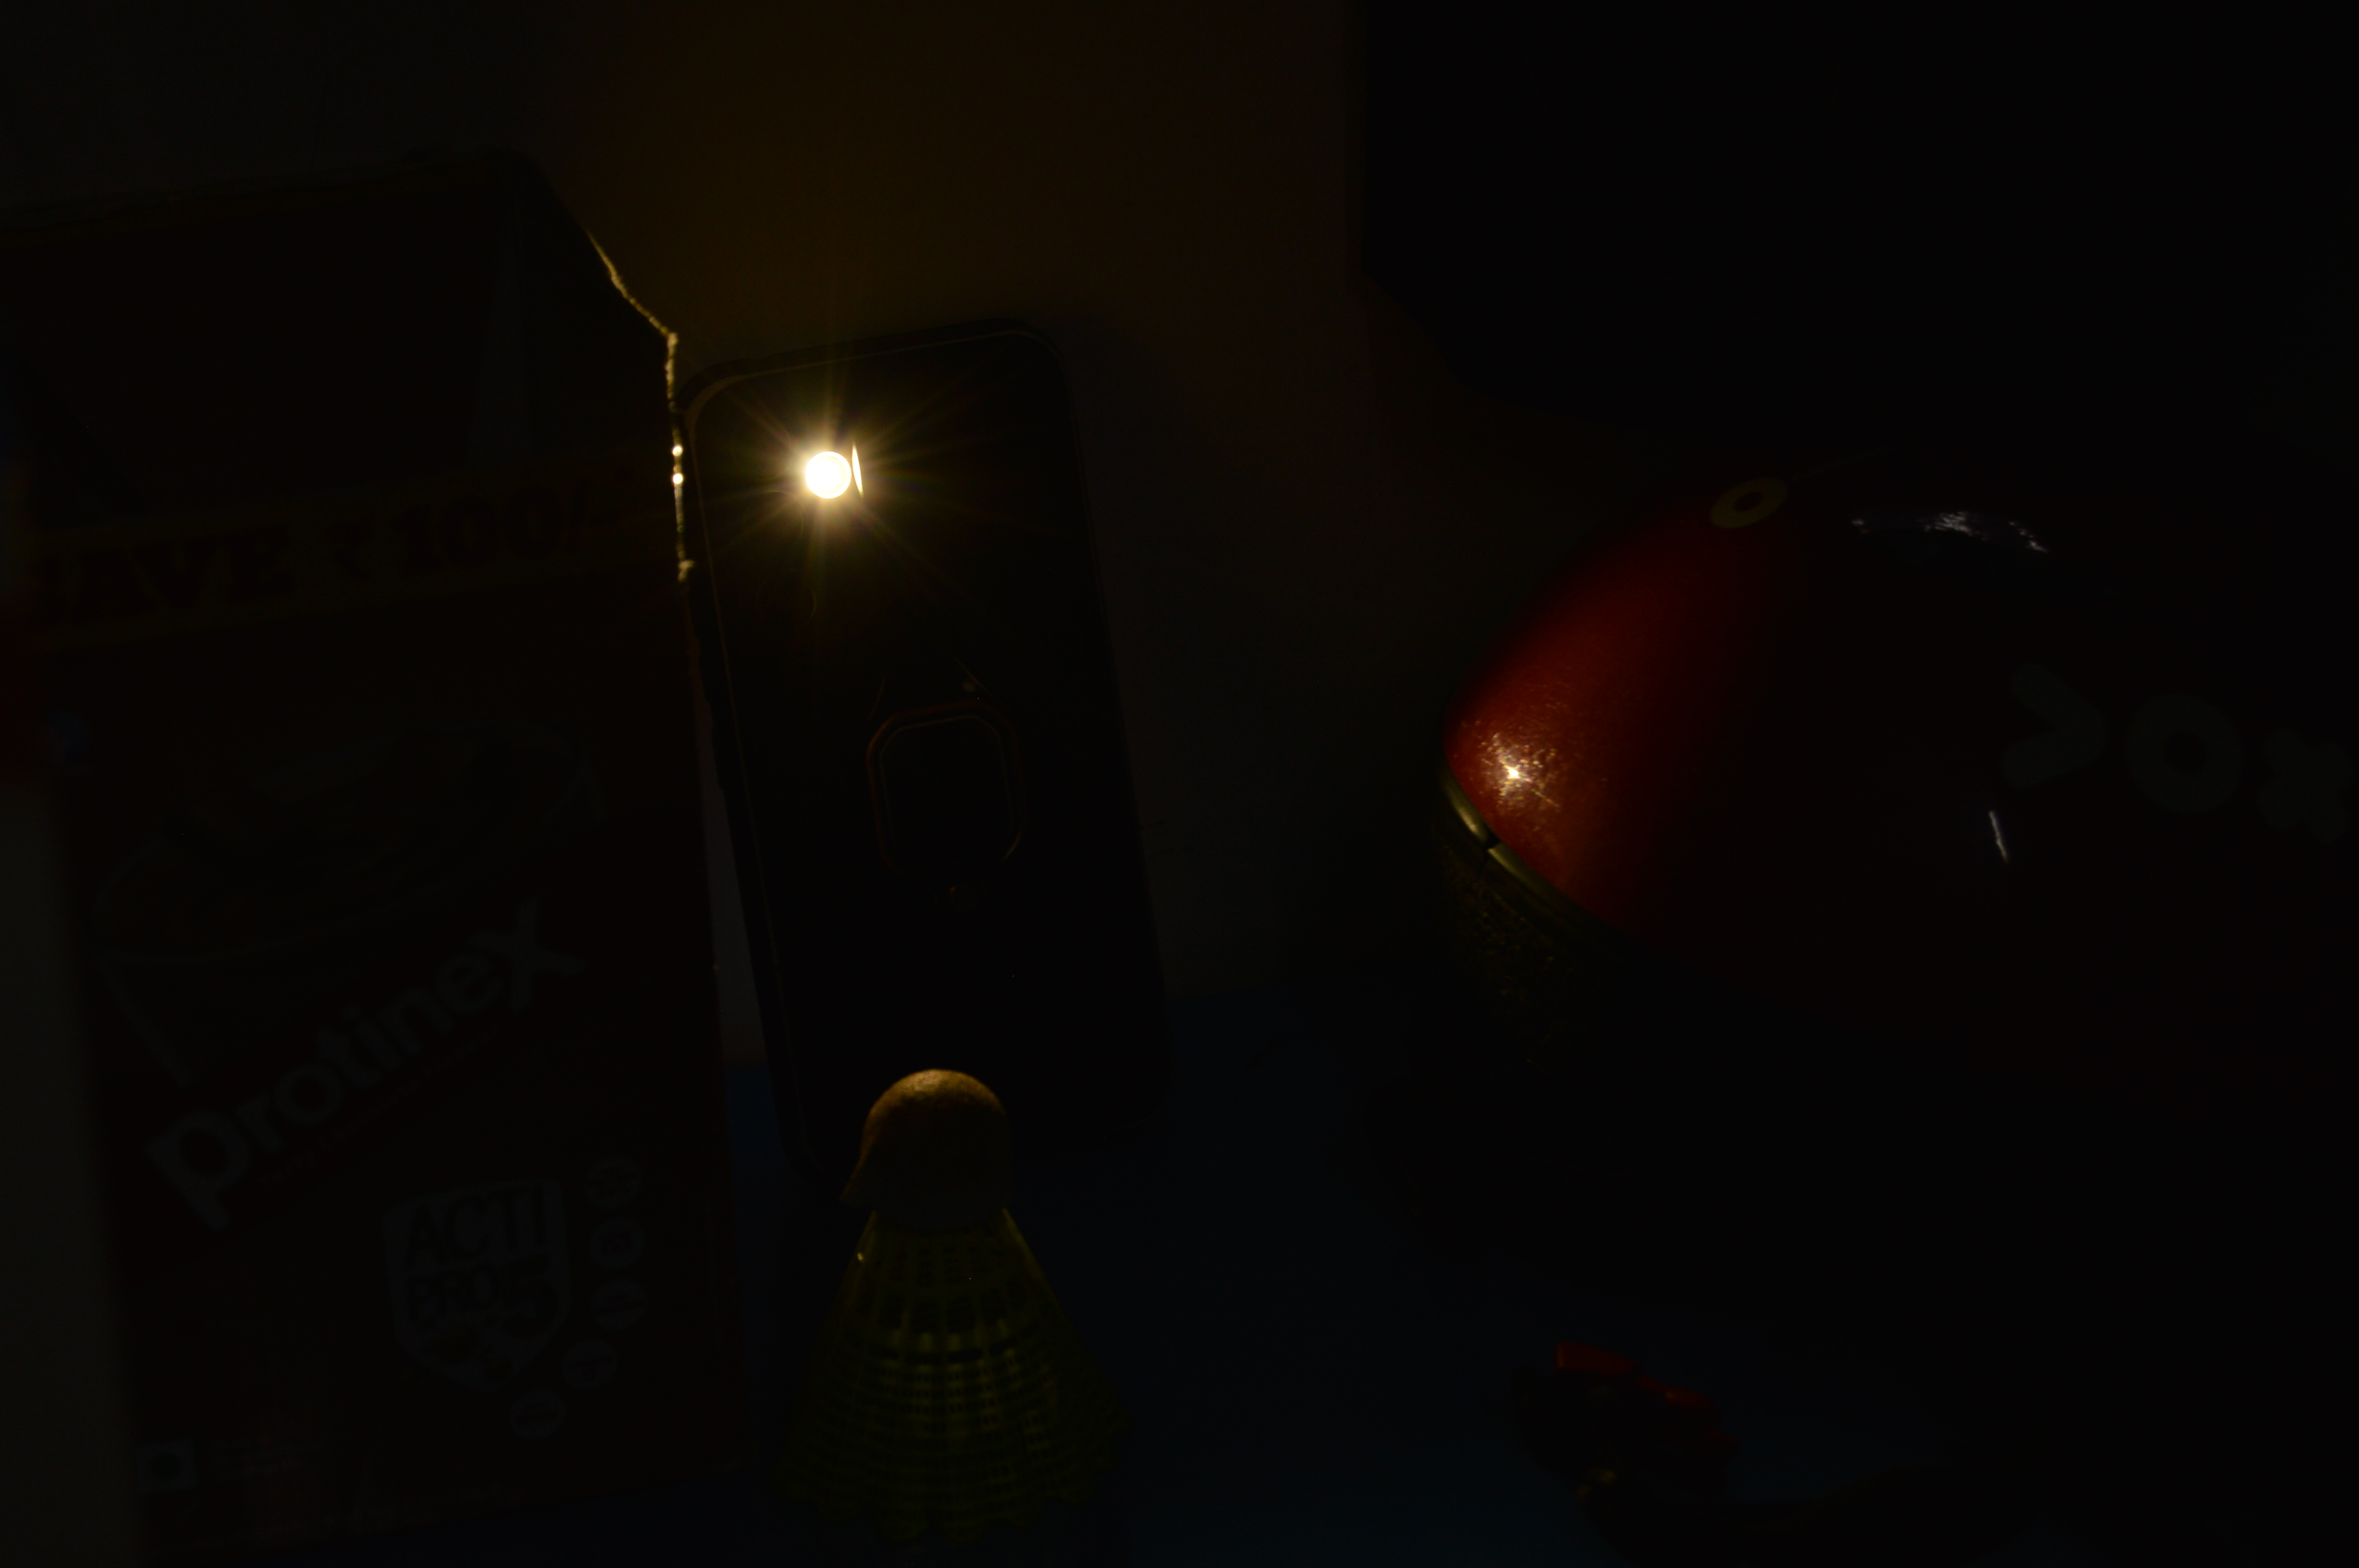Glare: (771, 429, 901, 538)
